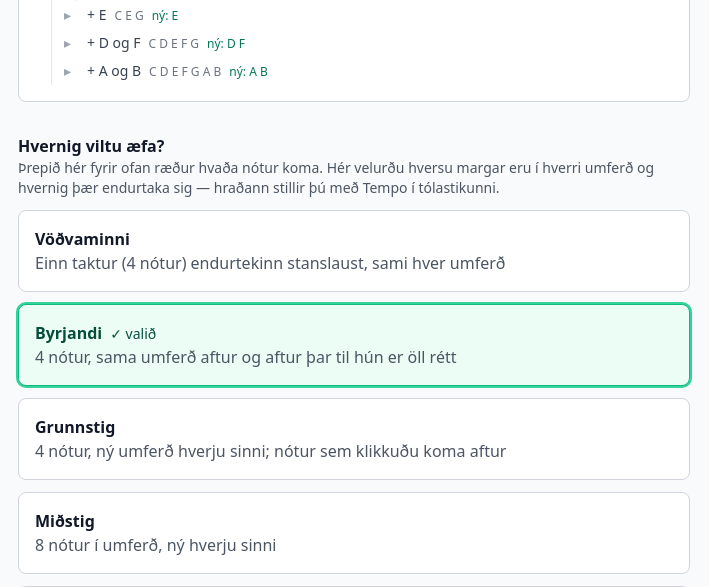
Test: NotectorGame — Muscle Memory mode › picks the level by clicking its box on the idle screen
(page scrolled)
Click the radio button labelled "Vöðvaminni" at (354, 251), box [18,210,690,292]
(page scrolled)
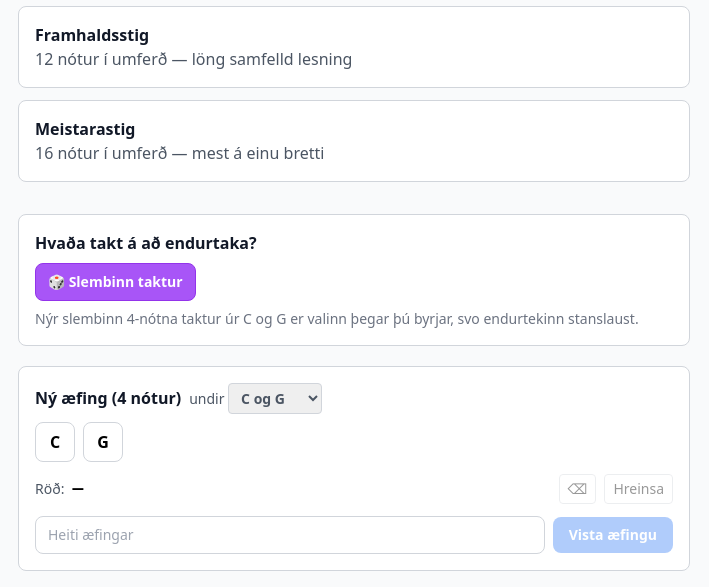
Expected: the button "🎲 Slembinn taktur" is shown, [35,263,196,301]
